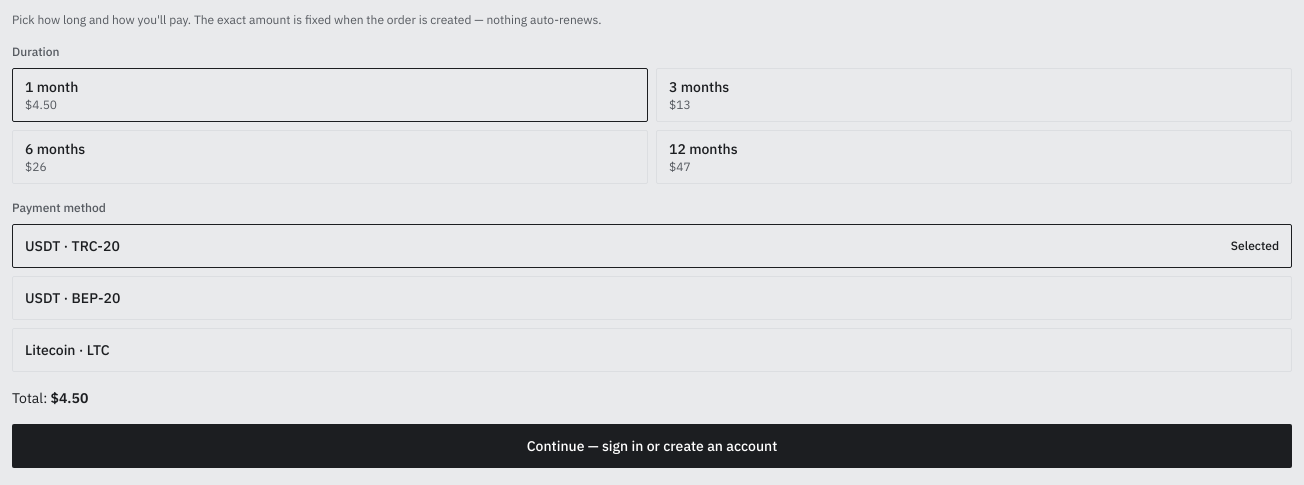
Test: details step › reads the total for the chosen duration, including a deliberate discount
Expected: the text with test id "upgrade-total" reads "$4.50", [50,389,88,407]
Click the button "12 months $47".
click(713, 149)  # box [656,130,1292,184]
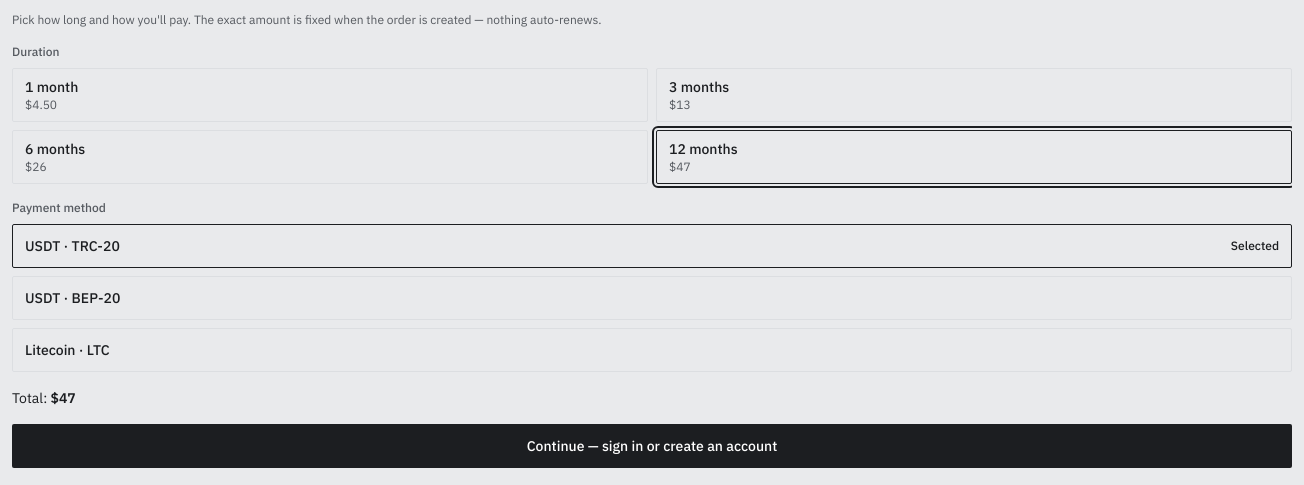
Now the text with test id "upgrade-total" reads "$47", box [50,389,76,407]
